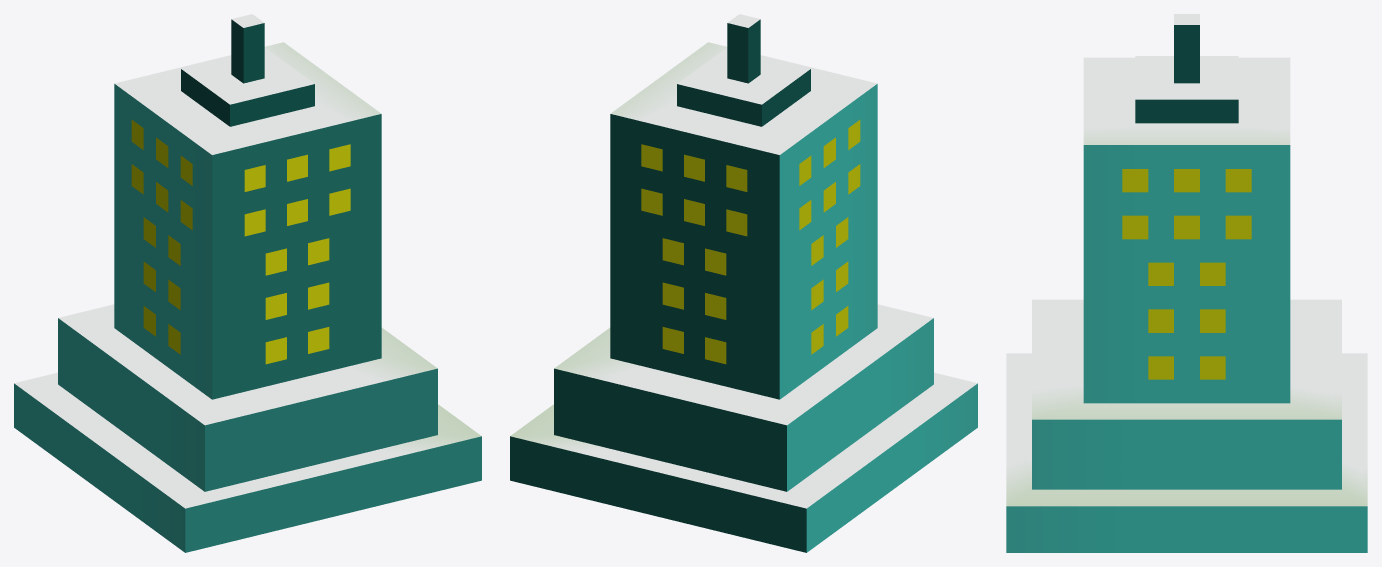
The model's file is HQ.OrangeStar.TealGalaxy.Snow.glb.
The picture shows the model from 3 angles, left to right: view 1: azimuth 30°, elevation 25°; view 2: azimuth 150°, elevation 25°; view 3: azimuth 270°, elevation 25°; orthographic projection. The views are drawn at different scales.
Visible parts, largest first — view 1: HQ.OrangeStar.TealGalaxy.Snow; view 2: HQ.OrangeStar.TealGalaxy.Snow; view 3: HQ.OrangeStar.TealGalaxy.Snow.
Boxes of the visible parts, left/top/right/bottom form: HQ.OrangeStar.TealGalaxy.Snow: left=14, top=14, right=481, bottom=552; HQ.OrangeStar.TealGalaxy.Snow: left=510, top=14, right=977, bottom=552; HQ.OrangeStar.TealGalaxy.Snow: left=1006, top=14, right=1367, bottom=552.
Bounding box in the file's own units: 2.8 × 3.91 × 2.8.
2 materials, 1 textured.
